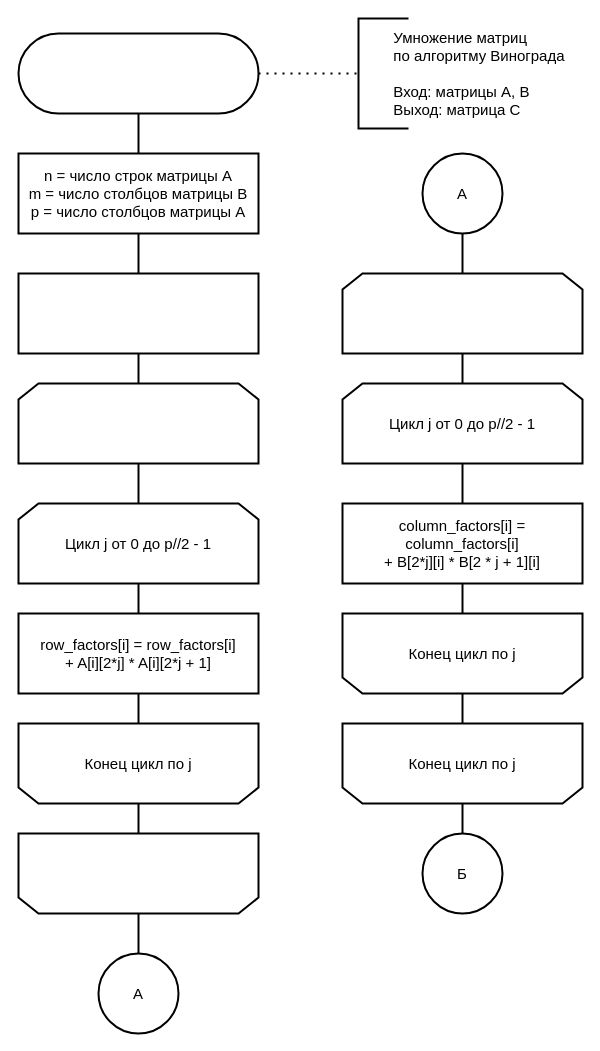
This 600x1051 diagram has some shape labels left out. The box of each missing label's shape, as (x1, y1, x2, y2) in pixels:
Конец цикл по i: (17, 832, 259, 914)
Начало: (17, 32, 259, 114)
создать массив row_factors длинной n, создать массив column_factors длинной m: (17, 272, 259, 354)
Цикл i от 0 до m - 1: (341, 272, 583, 354)
Цикл i от 0 до n - 1: (17, 382, 259, 464)
